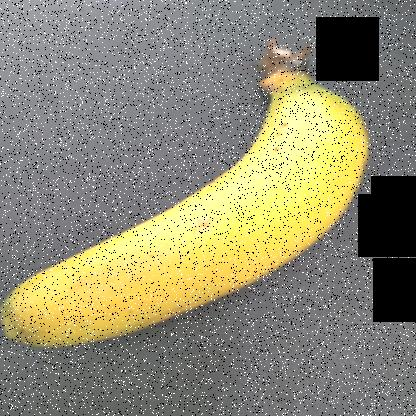freshripe: (6, 78, 392, 360)
